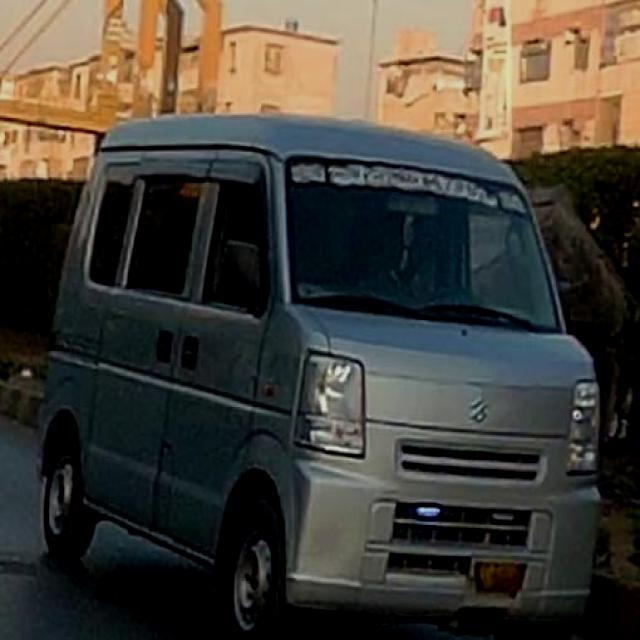Van: (30, 109, 604, 640)
